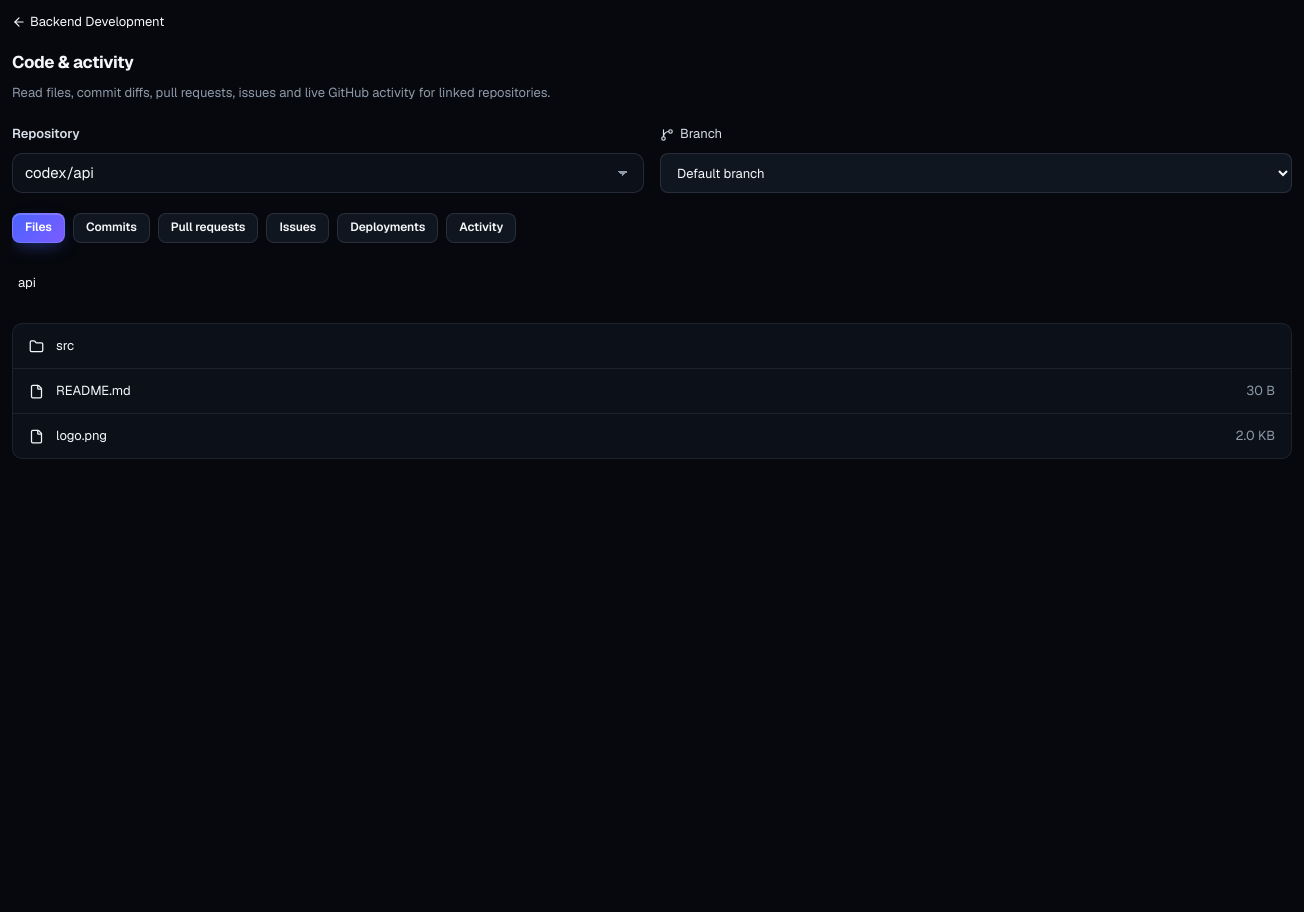
it: Code & activity tool › pages through commits and shows a diff with additions and deletions marked
Click the button "Commits" at (111, 228), box 73,213 -> 150,243
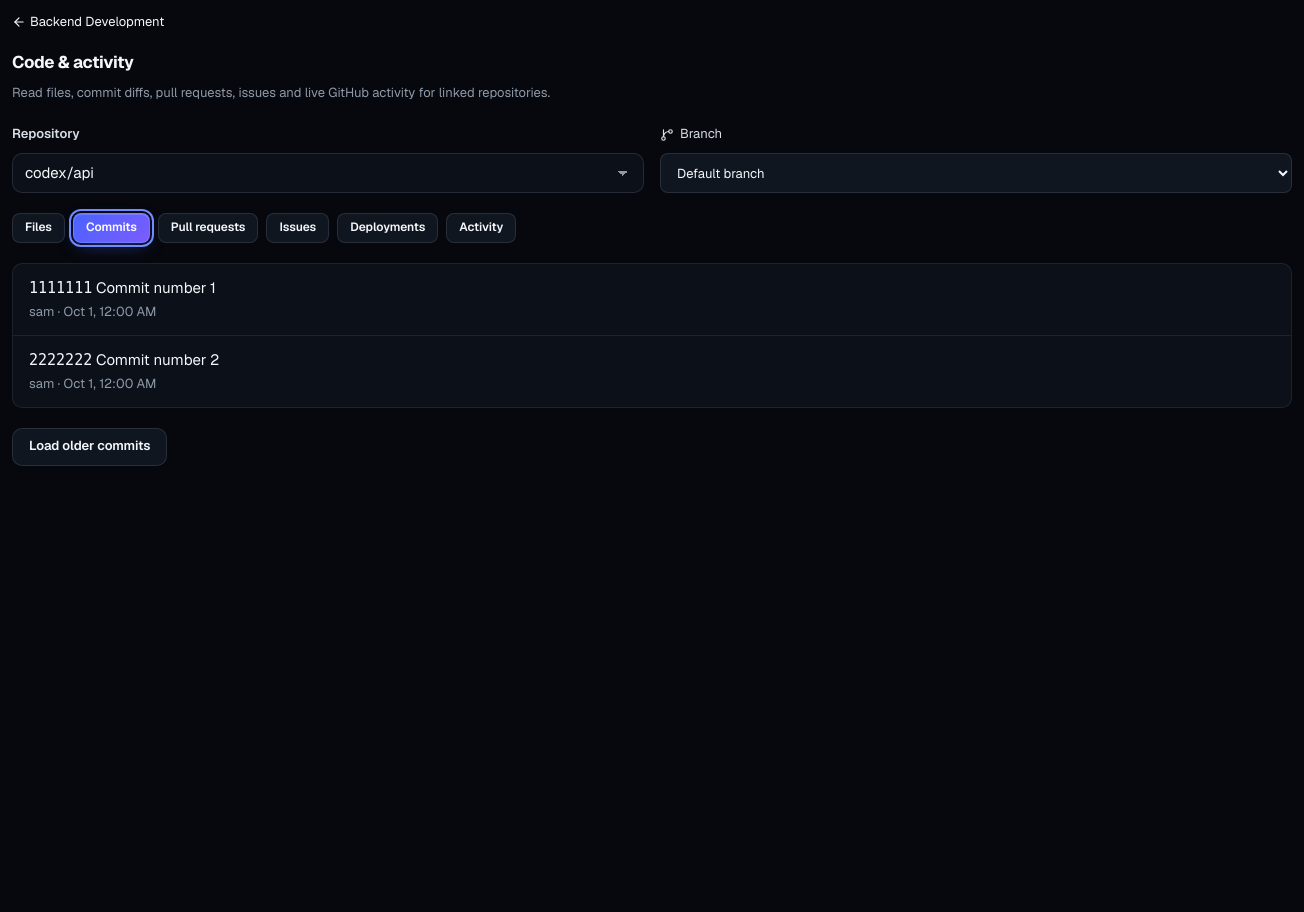
Check: the button "2222222 Commit number 2" is shown, box 29,348 -> 1275,372
Click the button "Load older commits" at (90, 447), box 12,428 -> 168,466
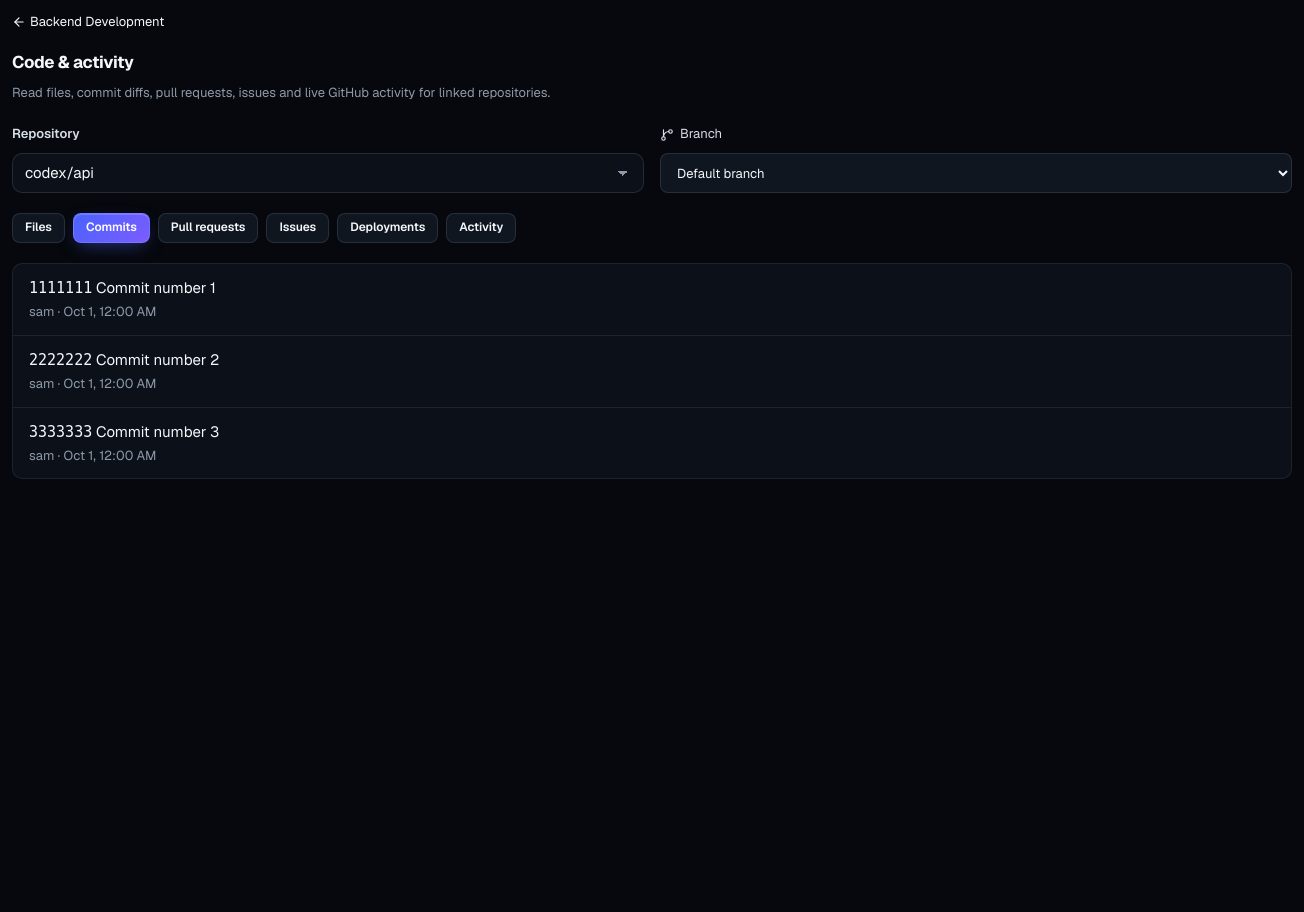
Check: the button "3333333 Commit number 3" is shown, box 29,420 -> 1275,444
Check: the button "Load older commits" is gone
Click the button "1111111 Commit number 1" at (61, 288), box 29,276 -> 1275,300
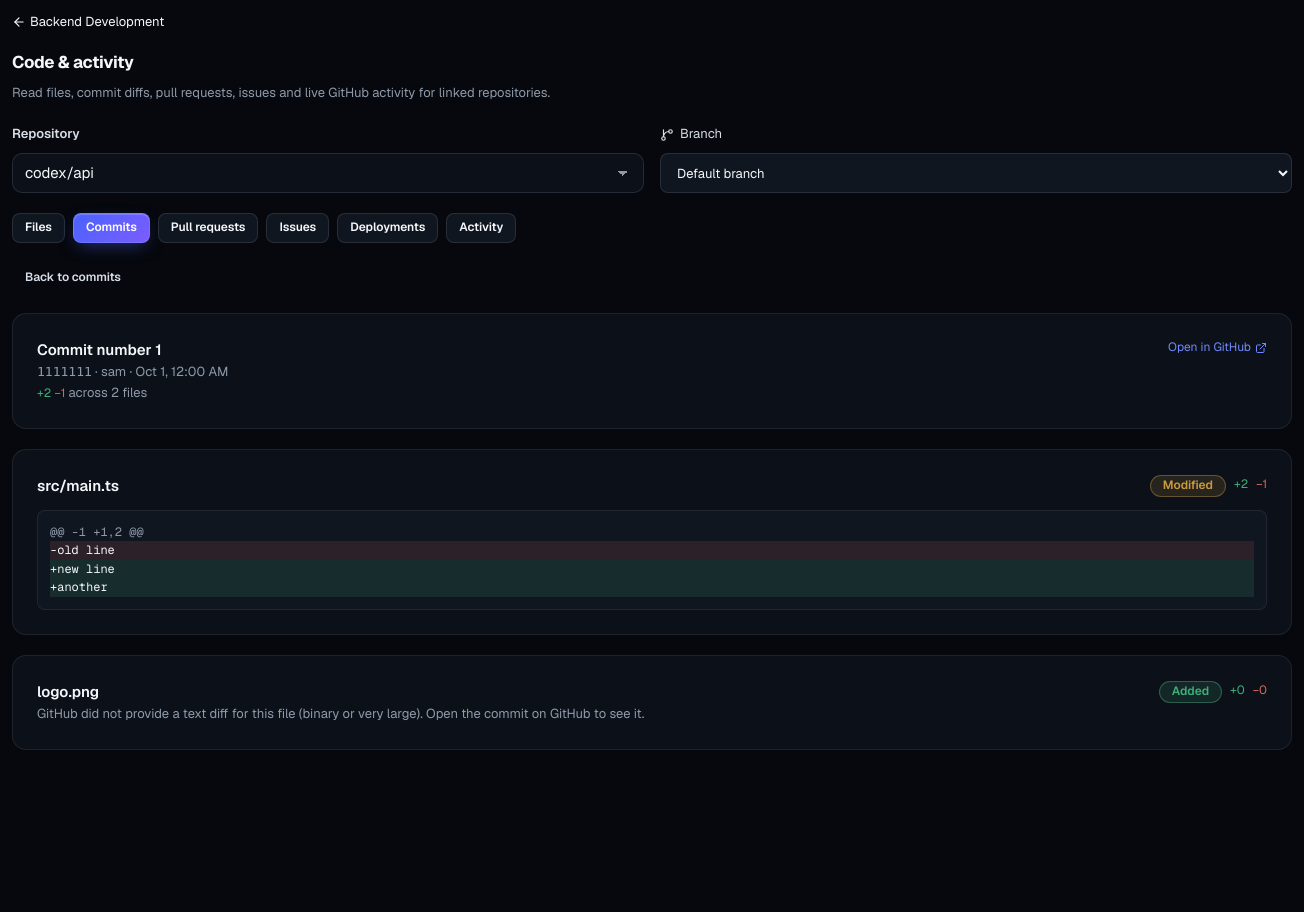
Check: the text with class "is-add" reads "+new line", box 50,561 -> 115,577
Check: the text with class "is-del" reads "-old line", box 50,542 -> 115,558
Check: the text "@@ -1 +1,2 @@" is shown, box 50,524 -> 144,540
